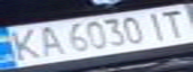0: (118, 12, 151, 45), (84, 18, 109, 52)
3: (103, 16, 127, 48)
6: (60, 20, 90, 53)
A: (27, 23, 66, 57)
I: (142, 9, 175, 40)
K: (0, 26, 48, 62)
T: (157, 7, 193, 38)
